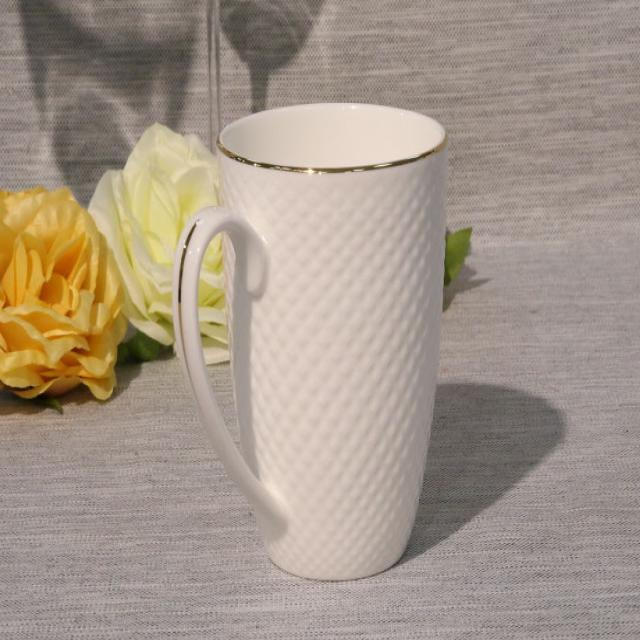Coffee Mug: (172, 101, 446, 580)
